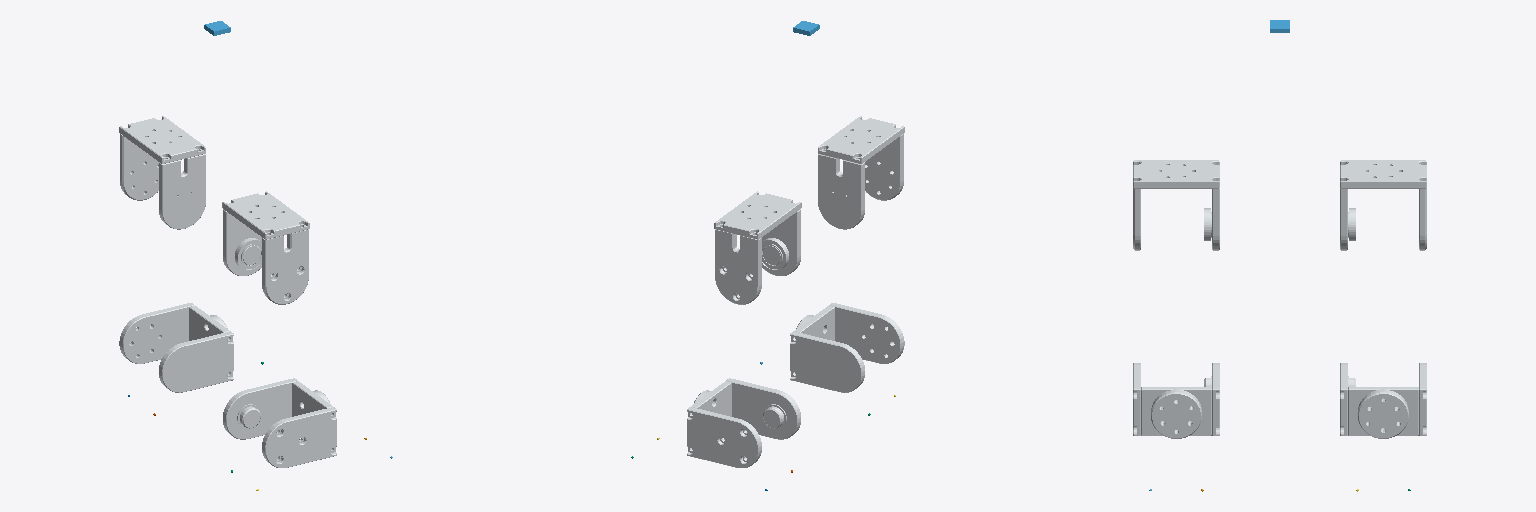
--- What the picture shows (computed from the rendered views, not written in the file) ---
3 views of the same robot in one strip: view 1: azimuth 30°, elevation 25°; view 2: azimuth 150°, elevation 25°; view 3: azimuth 270°, elevation 25° (orthographic).
Robot: pai_cl_12 — 22 links, 21 joints (12 revolute, 9 fixed); root link base_link; default pose: every joint at zero.
Links seen in each view (by area): view 1: leg_l5_link, leg_r5_link, leg_l3_link, leg_r3_link; view 2: leg_r5_link, leg_l5_link, leg_r3_link, leg_l3_link; view 3: leg_r5_link, leg_l5_link, leg_r3_link, leg_l3_link.
Link boxes in pixels (bbox=[...]): leg_l5_link: bbox=[119, 303, 233, 392]; leg_r5_link: bbox=[223, 378, 336, 467]; leg_l3_link: bbox=[119, 116, 205, 229]; leg_r3_link: bbox=[222, 191, 309, 304]; leg_r5_link: bbox=[790, 303, 904, 392]; leg_l5_link: bbox=[687, 378, 800, 467]; leg_r3_link: bbox=[818, 116, 904, 229]; leg_l3_link: bbox=[714, 191, 801, 304]; leg_r5_link: bbox=[1133, 363, 1219, 438]; leg_l5_link: bbox=[1340, 363, 1426, 438]; leg_r3_link: bbox=[1133, 160, 1219, 250]; leg_l3_link: bbox=[1340, 160, 1426, 250].
Bounding box of the posed robot: 0.122 × 0.2274 × 0.3535 m (x, y, z).
4 mesh visuals loaded from 13 distinct referenced files (4 binary STL); not drawn: 9 (reference not matched to a file when rendering).

robot.urdf — pai_cl_12:
<?xml version="1.0" encoding="utf-8"?>
<robot name="pai_cl_12">

	<gazebo>
		<plugin name="gazebo_ros_control" filename="libhunter_bipedal_hw_sim.so">
		<robotNamespace>/</robotNamespace>
		<robotParam>legged_robot_description</robotParam>
		<robotSimType>legged_gazebo/LeggedHWSim</robotSimType>
		</plugin>
	</gazebo>

  <gazebo>
    <plugin filename="libgazebo_ros_p3d.so" name="p3d_base_controller">
      <alwaysOn>true</alwaysOn>
      <updateRate>500.0</updateRate>
      <bodyName>base_link</bodyName>
      <topicName>ground_truth/state</topicName>
      <gaussianNoise>0</gaussianNoise>
      <frameName>world</frameName>
      <xyzOffsets>0 0 0</xyzOffsets>
      <rpyOffsets>0 0 0</rpyOffsets>
    </plugin>
  </gazebo>

	<link name="base_link">
		<inertial>
			<origin xyz="0.00080912 -8.753E-05 0.03920549" rpy="0 0 0" />
			<mass value="1.82" />
			<inertia ixx="0.00829787" ixy="-1.181E-05" ixz="-0.00019642" iyy="0.00916809" iyz="1.354E-05" izz="0.00411404" />
		</inertial>
		<visual>
			<origin xyz="0 0 0.0" rpy="0 0 0" />
			<geometry>
				<!-- <box size="0.1 0.1 0.1" /> -->
				<mesh filename="package://legged_hunter_description/meshes/base_link.stl" />
			</geometry>
			<material name="">
				<color rgba="0.79216 0.81961 0.93333 1" />
			</material>
		</visual>
		<collision>
			<origin xyz="0 0 0.08" rpy="0 0 0" />
			<geometry>
				<box size="0.1 0.1 0.1" />
			</geometry>
		</collision>
	</link>

  	<joint name="imu_joint" type="fixed">
      <origin rpy="0. 0. 0." xyz="0. 0. 0"/>
      <parent link="base_link"/>
      <child link="imu_link"/>
    </joint>
    <!-- Imu link -->
    <link name="imu_link">
      <inertial>
        <mass value="0.01"/>
        <origin rpy="0 0 0" xyz="0 0 0"/>
        <inertia ixx="0.000001" ixy="0" ixz="0" iyy="0.000001" iyz="0" izz="0.000001"/>
      </inertial>
      <visual>
        <origin rpy="0 0 0" xyz="0 0 0"/>
        <geometry>
          <box size="0.015 0.015 0.004"/>
        </geometry>
      </visual>
      <material name="orange">
        <color rgba="255 108 10 255"/>
      </material>
    </link>
    <gazebo reference="imu_joint">
      <disableFixedJointLumping>true</disableFixedJointLumping>
    </gazebo>	

  <!-- ************************************************************ -->
  <!-- ************************ Right Leg ************************** -->
  <!-- ************************************************************ -->	

	<link name="leg_r1_link">
		<inertial>
			<origin xyz="0.0010765 -0.030923 -0.00028479" rpy="0 0 0" />
			<mass value="0.37475" />
			<inertia ixx="0.00018843" ixy="-7E-07" ixz="-7E-07" iyy="0.00019327" iyz="1.72E-06" izz="0.00020355" />
		</inertial>
		<visual>
			<origin xyz="0 0 0" rpy="0 0 0" />
			<geometry>
				<!-- <box size="0.001 0.001 0.001" /> -->
				<mesh filename="package://legged_hunter_description/meshes/r_hip_pitch_link.stl" />
			</geometry>
			<material name="">
				<color rgba="0.79216 0.81961 0.93333 1" />
			</material>
		</visual>
		<collision>
			<origin xyz="0 0 0" rpy="0 0 0" />
			<geometry>
				<box size="0.001 0.001 0.001" />
				<!-- <mesh filename="package://legged_hunter_description/meshes/r_hip_pitch_link.stl" /> -->
			</geometry>
		</collision>
	</link>
	<joint name="leg_r1_joint" type="revolute">
		<origin xyz="-0.0028186 -0.0482 -0.031" rpy="0 0 0" />
		<parent link="base_link" />
		<child link="leg_r1_link" />
		<axis xyz="0 1 0" />
		<limit lower="-1.5" upper="1.5" effort="21" velocity="21" />
	</joint>

	<link name="leg_r2_link">
		<inertial>
			<origin xyz="-0.025798 0.00024695 -0.059965" rpy="0 0 0" />
			<mass value="0.41506" />
			<inertia ixx="0.00037621" ixy="1.65E-06" ixz="3.105E-05" iyy="0.0004423" iyz="4E-07" izz="0.00024588" />
		</inertial>
		<visual>
			<origin xyz="0 0 0" rpy="0 0 0" />
			<geometry>
				<!-- <box size="0.001 0.001 0.001" /> -->
				<mesh filename="package://legged_hunter_description/meshes/r_hip_roll_link.stl" />
			</geometry>
			<material name="">
				<color rgba="0.79216 0.81961 0.93333 1" />
			</material>
		</visual>
		<collision>
			<origin xyz="0 0 0" rpy="0 0 0" />
			<geometry>
				<!-- <mesh filename="package://legged_hunter_description/meshes/r_hip_roll_link.stl" /> -->
				<box size="0.001 0.001 0.001" />
			</geometry>
		</collision>
	</link>
	<joint name="leg_r2_joint" type="revolute">
		<origin xyz="0.0245 -0.032 0" rpy="0 0 0" />
		<parent link="leg_r1_link" />
		<child link="leg_r2_link" />
		<axis xyz="1 0 0" />
		<limit lower="-1.5" upper="1.5" effort="21" velocity="21" />
	</joint>

	<link name="leg_r3_link">
		<inertial>
			<origin xyz="0 0.00287888 -0.02541557" rpy="0 0 0" />
			<mass value="0.12098061" />
			<inertia ixx="0.00013404" ixy="0" ixz="0" iyy="6.442E-05" iyz="7.23E-06" izz="9.875E-05" />
		</inertial>
		<visual>
			<origin xyz="0 0 0" rpy="0 0 0" />
			<geometry>
				<!-- <box size="0.001 0.001 0.001" /> -->
				<mesh filename="package://legged_hunter_description/meshes/r_thigh_link.stl" />
			</geometry>
			<material name="">
				<color rgba="0.89804 0.91765 0.92941 1" />
			</material>
		</visual>
		<collision>
			<origin xyz="0 0 0" rpy="0 0 0" />
			<geometry>
				<box size="0.001 0.001 0.001" />
				<!-- <mesh filename="package://legged_hunter_description/meshes/r_thigh_link.stl" /> -->
			</geometry>
		</collision>
	</link>
	<joint name="leg_r3_joint" type="revolute">
		<origin xyz="-0.0245 0 -0.0935" rpy="0 0 0" />
		<parent link="leg_r2_link" />
		<child link="leg_r3_link" />
		<axis xyz="0 0 1" />
		<limit lower="-1.5" upper="1.5" effort="21" velocity="21" />
	</joint>

	<link name="leg_r4_link">
		<inertial>
			<origin xyz="4.686E-05 0.02435698 -0.06983241" rpy="0 0 0" />
			<mass value="0.7601909" />
			<inertia ixx="0.00325687" ixy="-9E-08" ixz="8.91E-06" iyy="0.00327684" iyz="6.4E-07" izz="0.00031685" />
		</inertial>
		<visual>
			<origin xyz="0 0 0" rpy="0 0 0" />
			<geometry>
				<!-- <box size="0.001 0.001 0.001" /> -->
				<mesh filename="package://legged_hunter_description/meshes/r_calf_link.stl" />
			</geometry>
			<material name="">
				<color rgba="0.79216 0.81961 0.93333 1" />
			</material>
		</visual>
		<collision>
			<origin xyz="0 0 0" rpy="0 0 0" />
			<geometry>
				<box size="0.001 0.001 0.001" />
				<!-- <mesh filename="package://legged_hunter_description/meshes/r_calf_link.stl" /> -->
			</geometry>
		</collision>
	</link>
	<joint name="leg_r4_joint" type="revolute">
		<origin xyz="0 -0.0275 -0.046" rpy="0 0 0" />
		<parent link="leg_r3_link" />
		<child link="leg_r4_link" />
		<axis xyz="0 1 0" />
		<limit lower="-1.0" upper="3.0" effort="21" velocity="21" />
	</joint>

	<link name="leg_r5_link">
		<inertial>
			<origin xyz="0.02577677 0.0285458 0" rpy="0 0 0" />
			<mass value="0.1322312" />
			<inertia ixx="9.848E-05" ixy="3.56E-06" ixz="0" iyy="7.022E-05" iyz="0" izz="0.00013716" />
		</inertial>
		<visual>
			<origin xyz="0 0 0" rpy="0 0 0" />
			<geometry>
				<!-- <box size="0.001 0.001 0.001" /> -->
				<mesh filename="package://legged_hunter_description/meshes/r_ankle_pitch_link.stl" />
			</geometry>
			<material name="">
				<color rgba="0.89804 0.91765 0.92941 1" />
			</material>
		</visual>
		<collision>
			<origin xyz="0 0 0" rpy="0 0 0" />
			<geometry>
				<box size="0.001 0.001 0.001" />
				<!-- <mesh filename="package://legged_hunter_description/meshes/r_ankle_pitch_link.stl" /> -->
			</geometry>
		</collision>
	</link>
	<joint name="leg_r5_joint" type="revolute">
		<origin xyz="0 0 -0.14" rpy="0 0 0" />
		<parent link="leg_r4_link" />
		<child link="leg_r5_link" />
		<axis xyz="0 1 0" />
		<limit lower="-1.0" upper="1.0" effort="21" velocity="21" />
	</joint>

	<link name="r_ankle_roll_link">
		<inertial>
			<origin xyz="0.012583 0.00017854 -0.016891" rpy="0 0 0" />
			<mass value="0.58347" />
			<inertia ixx="0.00052164" ixy="-1.83E-06" ixz="-0.00017071" iyy="0.00089826" iyz="-1E-08" izz="0.00070959" />
		</inertial>
		<visual>
			<origin xyz="0 0 0" rpy="0 0 0" />
			<geometry>
				<mesh filename="package://legged_hunter_description/meshes/r_ankle_roll_link.stl" />
			</geometry>
			<material name="">
				<color rgba="0.79216 0.81961 0.93333 1" />
			</material>
		</visual>
		<collision>
			<origin xyz="0 0 0" rpy="0 0 0" />
			<geometry>
        <box size="0.001 0.001 0.001" />
				<!-- <mesh filename="package://legged_hunter_description/meshes/r_ankle_roll_link.stl" /> -->
			</geometry>
		</collision>
	</link>
	<joint name="leg_r6_joint" type="revolute">
		<origin xyz="0.051 0.0275 0" rpy="0 0 0" />
		<parent link="leg_r5_link" />
		<child link="r_ankle_roll_link" />
		<axis xyz="1 0 0" />
		<limit lower="-1.0" upper="1.0" effort="21" velocity="21" />
	</joint>

  <joint name="leg_r5_fixed_1" type="fixed">
    <origin xyz="0.05 0.02 -0.0400" rpy="0 0 0" />
    <parent link="r_ankle_roll_link" />
    <child link="leg_r_f1_link" />
  </joint>
  <link name="leg_r_f1_link">
    <inertial>
      <mass value="0.01" />
      <inertia ixx="0.000001" ixy="0" ixz="0" iyy="0.000001" iyz="0" izz="0.000001" />
    </inertial>
    <visual>
      <origin rpy="0 0 0" xyz="0 0 0"/>
      <geometry>
        <sphere radius="0.001"/>
      </geometry>
    </visual>
    <collision>
      <origin rpy="0 0 0" xyz="0 0 0"/>
      <geometry>
        <sphere radius="0.001"/>
      </geometry>
    </collision>
  </link>

  <joint name="leg_r5_fixed_2" type="fixed">
    <origin xyz="0.05 -0.02 -0.0400" rpy="0 0 0" />
    <parent link="r_ankle_roll_link" />
    <child link="leg_r_f2_link" />
  </joint>
  <link name="leg_r_f2_link">
    <inertial>
      <mass value="0.01" />
      <inertia ixx="0.000001" ixy="0" ixz="0" iyy="0.000001" iyz="0" izz="0.000001" />
    </inertial>
    <visual>
      <origin rpy="0 0 0" xyz="0 0 0"/>
      <geometry>
        <sphere radius="0.001"/>
      </geometry>
    </visual>
    <collision>
      <origin rpy="0 0 0" xyz="0 0 0"/>
      <geometry>
        <sphere radius="0.001"/>
      </geometry>
    </collision>
  </link>

  <joint name="leg_r5_fixed_3" type="fixed">
    <origin xyz="-0.07 0.02 -0.0400" rpy="0 0 0" />
    <parent link="r_ankle_roll_link" />
    <child link="leg_r_f3_link" />
  </joint>
  <link name="leg_r_f3_link">
    <inertial>
      <mass value="0.01" />
      <inertia ixx="0.000001" ixy="0" ixz="0" iyy="0.000001" iyz="0" izz="0.000001" />
    </inertial>
    <visual>
      <origin rpy="0 0 0" xyz="0 0 0"/>
      <geometry>
        <sphere radius="0.001"/>
      </geometry>
    </visual>
    <collision>
      <origin rpy="0 0 0" xyz="0 0 0"/>
      <geometry>
        <sphere radius="0.001"/>
      </geometry>
    </collision>
  </link>

  <joint name="leg_r5_fixed_4" type="fixed">
    <origin xyz="-0.070 -0.02 -0.0400" rpy="0 0 0" />
    <parent link="r_ankle_roll_link" />
    <child link="leg_r_f4_link" />
  </joint>
  <link name="leg_r_f4_link">
    <inertial>
      <mass value="0.01" />
      <inertia ixx="0.000001" ixy="0" ixz="0" iyy="0.000001" iyz="0" izz="0.000001" />
    </inertial>
    <visual>
      <origin rpy="0 0 0" xyz="0 0 0"/>
      <geometry>
        <sphere radius="0.001"/>
      </geometry>
    </visual>
    <collision>
      <origin rpy="0 0 0" xyz="0 0 0"/>
      <geometry>
        <sphere radius="0.001"/>
      </geometry>
    </collision>
  </link>

  <gazebo reference="leg_r1_link">
    <mu1>0.6</mu1>
    <mu2>0.6</mu2>
    <self_collide>1</self_collide>
  </gazebo>
  <gazebo reference="leg_r2_link">
    <mu1>0.6</mu1>
    <mu2>0.6</mu2>
    <self_collide>1</self_collide>
  </gazebo>
  <gazebo reference="leg_r3_link">
    <mu1>0.6</mu1>
    <mu2>0.6</mu2>
    <self_collide>1</self_collide>
  </gazebo>
  <gazebo reference="leg_r4_link">
    <mu1>0.6</mu1>
    <mu2>0.6</mu2>
    <self_collide>1</self_collide>
  </gazebo>
  <gazebo reference="leg_r5_link">
    <mu1>0.6</mu1>
    <mu2>0.6</mu2>
    <self_collide>1</self_collide>
  </gazebo>
  <gazebo reference="r_ankle_roll_link">
    <mu1>0.6</mu1>
    <mu2>0.6</mu2>
    <self_collide>1</self_collide>
  </gazebo>
  <gazebo reference="leg_r_f1_link">
    <mu1>1.5</mu1>
    <mu2>1.5</mu2>
    <self_collide>1</self_collide>
    <kp value="1000000.0"/>
    <kd value="100.0"/>
    <maxVel>1.0</maxVel>
    <minDepth>0.00</minDepth>
  </gazebo>
  <gazebo reference="leg_r_f2_link">
    <mu1>1.5</mu1>
    <mu2>1.5</mu2>
    <self_collide>1</self_collide>
    <kp value="1000000.0"/>
    <kd value="100.0"/>
    <maxVel>1.0</maxVel>
    <minDepth>0.00</minDepth>
  </gazebo>
  <gazebo reference="leg_r_f3_link">
    <mu1>1.5</mu1>
    <mu2>1.5</mu2>
    <self_collide>1</self_collide>
    <kp value="1000000.0"/>
    <kd value="100.0"/>
    <maxVel>1.0</maxVel>
    <minDepth>0.00</minDepth>
  </gazebo>
  <gazebo reference="leg_r_f4_link">
    <mu1>1.5</mu1>
    <mu2>1.5</mu2>
    <self_collide>1</self_collide>
    <kp value="1000000.0"/>
    <kd value="100.0"/>
    <maxVel>1.0</maxVel>
    <minDepth>0.00</minDepth>
  </gazebo>

  <transmission name="leg_r1_tran">
    <type>transmission_interface/SimpleTransmission</type>
    <joint name="leg_r1_joint">
      <hardwareInterface>hardware_interface/EffortJointInterface</hardwareInterface>
    </joint>
    <actuator name="leg_r1_motor">
      <hardwareInterface>hardware_interface/EffortJointInterface</hardwareInterface>
      <mechanicalReduction>1</mechanicalReduction>
      	  <maxVelocity>1.484</maxVelocity><!-- 85rpm -->
	<maxEffort>36.0</maxEffort><!-- 36Nm -->
    </actuator>
  </transmission>

  <transmission name="leg_r2_tran">
    <type>transmission_interface/SimpleTransmission</type>
    <joint name="leg_r2_joint">
      <hardwareInterface>hardware_interface/EffortJointInterface</hardwareInterface>
    </joint>
    <actuator name="leg_r2_motor">
      <hardwareInterface>hardware_interface/EffortJointInterface</hardwareInterface>
      <mechanicalReduction>1</mechanicalReduction>
      	  <maxVelocity>2.6545</maxVelocity><!-- 160rpm -->
	  <maxEffort>94.0</maxEffort><!-- 94Nm -->
    </actuator>
  </transmission>

  <transmission name="leg_r3_tran">
    <type>transmission_interface/SimpleTransmission</type>
    <joint name="leg_r3_joint">
      <hardwareInterface>hardware_interface/EffortJointInterface</hardwareInterface>
    </joint>
    <actuator name="leg_r3_motor">
      <hardwareInterface>hardware_interface/EffortJointInterface</hardwareInterface>
      <mechanicalReduction>1</mechanicalReduction>
      	  <maxVelocity>2.6545</maxVelocity><!-- 160rpm -->
	  <maxEffort>94.0</maxEffort><!-- 94Nm -->
    </actuator>
  </transmission>

  <transmission name="leg_r4_tran">
    <type>transmission_interface/SimpleTransmission</type>
    <joint name="leg_r4_joint">
      <hardwareInterface>hardware_interface/EffortJointInterface</hardwareInterface>
    </joint>
    <actuator name="leg_r4_motor">
      <hardwareInterface>hardware_interface/EffortJointInterface</hardwareInterface>
      <mechanicalReduction>1</mechanicalReduction>
      	  <maxVelocity>1.484</maxVelocity><!-- 85rpm -->
	<maxEffort>36.0</maxEffort><!-- 36Nm -->
    </actuator>
  </transmission>

  <transmission name="leg_r5_tran">
    <type>transmission_interface/SimpleTransmission</type>
    <joint name="leg_r5_joint">
      <hardwareInterface>hardware_interface/EffortJointInterface</hardwareInterface>
    </joint>
    <actuator name="leg_r5_motor">
      <hardwareInterface>hardware_interface/EffortJointInterface</hardwareInterface>
      <mechanicalReduction>1</mechanicalReduction>
    </actuator>
  </transmission>

  <transmission name="leg_r6_tran">
    <type>transmission_interface/SimpleTransmission</type>
    <joint name="leg_r6_joint">
      <hardwareInterface>hardware_interface/EffortJointInterface</hardwareInterface>
    </joint>
    <actuator name="leg_r6_motor">
      <hardwareInterface>hardware_interface/EffortJointInterface</hardwareInterface>
      <mechanicalReduction>1</mechanicalReduction>
    </actuator>
  </transmission>


  <!-- ************************************************************ -->
  <!-- ************************ Left Leg ************************** -->
  <!-- ************************************************************ -->


	<link name="leg_l1_link">
		<inertial>
			<origin xyz="0.0010765 0.030923 -0.00028479" rpy="0 0 0" />
			<mass value="0.37475" />
			<inertia ixx="0.00018843" ixy="-7E-07" ixz="-7E-07" iyy="0.00019327" iyz="1.72E-06" izz="0.00020355" />
		</inertial>
		<visual>
			<origin xyz="0 0 0" rpy="0 0 0" />
			<geometry>
				<mesh filename="package://legged_hunter_description/meshes/l_hip_pitch_link.stl" />
			</geometry>
			<material name="">
				<color rgba="0.89804 0.91765 0.92941 1" />
			</material>
		</visual>
		<collision>
			<origin xyz="0 0 0" rpy="0 0 0" />
			<geometry>
				<box size="0.001 0.001 0.001" />
				<!-- <mesh filename="package://legged_hunter_description/meshes/l_hip_pitch_link.stl" /> -->
			</geometry>
		</collision>
	</link>
	<joint name="leg_l1_joint" type="revolute">
		<origin xyz="-0.0028186 0.0482 -0.031" rpy="0 0 0" />
		<parent link="base_link" />
		<child link="leg_l1_link" />
		<axis xyz="0 1 0" />
		<limit lower="-1.5" upper="1.5" effort="21" velocity="21" />
	</joint>

	<link name="leg_l2_link">
		<inertial>
			<origin xyz="-0.025798 0.00024695 -0.059965" rpy="0 0 0" />
			<mass value="0.41506" />
			<inertia ixx="0.00037621" ixy="1.65E-06" ixz="3.105E-05" iyy="0.0004423" iyz="4E-07" izz="0.00024588" />
		</inertial>
		<visual>
			<origin xyz="0 0 0" rpy="0 0 0" />
			<geometry>
				<mesh filename="package://legged_hunter_description/meshes/l_hip_roll_link.stl" />
			</geometry>
			<material name="">
				<color rgba="0.79216 0.81961 0.93333 1" />
			</material>
		</visual>
		<collision>
			<origin xyz="0 0 0" rpy="0 0 0" />
			<geometry>
				<box size="0.001 0.001 0.001" />
				<!-- <mesh filename="package://legged_hunter_description/meshes/l_hip_roll_link.stl" /> -->
			</geometry>
		</collision>
	</link>
	<joint name="leg_l2_joint" type="revolute">
		<origin xyz="0.0245 0.032 0" rpy="0 0 0" />
		<parent link="leg_l1_link" />
		<child link="leg_l2_link" />
		<axis xyz="1 0 0" />
		<limit lower="-1.5" upper="1.5" effort="21" velocity="21" />
	</joint>

	<link name="leg_l3_link">
		<inertial>
			<origin xyz="0 -0.00286926 -0.02541557" rpy="0 0 0" />
			<mass value="0.12098061" />
			<inertia ixx="0.00013405" ixy="0" ixz="0" iyy="6.442E-05" iyz="-7.26E-06" izz="9.875E-05" />
		</inertial>
		<visual>
			<origin xyz="0 0 0" rpy="0 0 0" />
			<geometry>
				<mesh filename="package://legged_hunter_description/meshes/l_thigh_link.stl" />
			</geometry>
			<material name="">
				<color rgba="0.89804 0.91765 0.92941 1" />
			</material>
		</visual>
		<collision>
			<origin xyz="0 0 0" rpy="0 0 0" />
			<geometry>
				<box size="0.001 0.001 0.001" />
				<!-- <mesh filename="package://legged_hunter_description/meshes/l_thigh_link.stl" /> -->
			</geometry>
		</collision>
	</link>
	<joint name="leg_l3_joint" type="revolute">
		<origin xyz="-0.0245 0 -0.0935" rpy="0 0 0" />
		<parent link="leg_l2_link" />
		<child link="leg_l3_link" />
		<axis xyz="0 0 1" />
		<limit lower="-1.5" upper="1.5" effort="21" velocity="21" />
	</joint>

	<link name="leg_l4_link">
		<inertial>
			<origin xyz="4.686E-05 -0.02435698 -0.06983241" rpy="0 0 0" />
			<mass value="0.7601909" />
			<inertia ixx="0.00325687" ixy="-9E-08" ixz="8.91E-06" iyy="0.00327684" iyz="6.4E-07" izz="0.00031685" />
		</inertial>
		<visual>
			<origin xyz="0 0 0" rpy="0 0 0" />
			<geometry>
				<mesh filename="package://legged_hunter_description/meshes/l_calf_link.stl" />
			</geometry>
			<material name="">
				<color rgba="0.75294 0.75294 0.75294 1" />
			</material>
		</visual>
		<collision>
			<origin xyz="0 0 0" rpy="0 0 0" />
			<geometry>
				<box size="0.001 0.001 0.001" />
				<!-- <mesh filename="package://legged_hunter_description/meshes/l_calf_link.stl" /> -->
			</geometry>
		</collision>
	</link>
	<joint name="leg_l4_joint" type="revolute">
		<origin xyz="0 0.0275 -0.046" rpy="0 0 0" />
		<parent link="leg_l3_link" />
		<child link="leg_l4_link" />
		<axis xyz="0 1 0" />
		<limit lower="-1.0" upper="3.0" effort="21" velocity="21" />
	</joint>

	<link name="leg_l5_link">
		<inertial>
			<origin xyz="0.02577677 -0.02854579 0" rpy="0 0 0" />
			<mass value="0.1322312" />
			<inertia ixx="9.848E-05" ixy="-3.56E-06" ixz="0" iyy="7.022E-05" iyz="0" izz="0.00013716" />
		</inertial>
		<visual>
			<origin xyz="0 0 0" rpy="0 0 0" />
			<geometry>
				<mesh filename="package://legged_hunter_description/meshes/l_ankle_pitch_link.stl" />
			</geometry>
			<material name="">
				<color rgba="0.89804 0.91765 0.92941 1" />
			</material>
		</visual>
		<collision>
			<origin xyz="0 0 0" rpy="0 0 0" />
			<geometry>
				<box size="0.001 0.001 0.001" />
				<!-- <mesh filename="package://legged_hunter_description/meshes/l_ankle_pitch_link.stl" /> -->
			</geometry>
		</collision>
	</link>
	<joint name="leg_l5_joint" type="revolute">
		<origin xyz="0 0 -0.14" rpy="0 0 0" />
		<parent link="leg_l4_link" />
		<child link="leg_l5_link" />
		<axis xyz="0 1 0" />
		<limit lower="-1.0" upper="1.0" effort="21" velocity="21" />
	</joint>

	<link name="l_ankle_roll_link">
		<inertial>
			<origin xyz="0.012583 0.00017854 -0.016891" rpy="0 0 0" />
			<mass value="0.58347" />
			<inertia ixx="0.00052164" ixy="-1.83E-06" ixz="-0.00017071" iyy="0.00089826" iyz="-1E-08" izz="0.00070959" />
		</inertial>
		<visual>
			<origin xyz="0 0 0" rpy="0 0 0" />
			<geometry>
				<mesh filename="package://legged_hunter_description/meshes/l_ankle_roll_link.stl" />
			</geometry>
			<material name="">
				<color rgba="0.89804 0.91765 0.92941 1" />
			</material>
		</visual>
		<collision>
			<origin xyz="0 0 0" rpy="0 0 0" />
			<geometry>
        <box size="0.001 0.001 0.001" />
				<!-- <mesh filename="package://legged_hunter_description/meshes/l_ankle_roll_link.stl" /> -->
			</geometry>
		</collision>
	</link>
	<joint name="leg_l6_joint" type="revolute">
		<origin xyz="0.051 -0.0275 0" rpy="0 0 0" />
		<parent link="leg_l5_link" />
		<child link="l_ankle_roll_link" />
		<axis xyz="1 0 0" />
		<limit lower="-1.0" upper="1.0" effort="21" velocity="21" />
	</joint>

 <joint name="leg_l5_fixed_1" type="fixed">
    <origin xyz="0.05 0.02 -0.0400" rpy="0 0 0" />
    <parent link="l_ankle_roll_link" />
    <child link="leg_l_f1_link" />
  </joint>
  <link name="leg_l_f1_link">
    <inertial>
      <mass value="0.01" />
      <inertia ixx="0.000001" ixy="0" ixz="0" iyy="0.000001" iyz="0" izz="0.000001" />
    </inertial>
    <visual>
      <origin rpy="0 0 0" xyz="0 0 0"/>
      <geometry>
        <sphere radius="0.001"/>
      </geometry>
    </visual>
    <collision>
      <origin rpy="0 0 0" xyz="0 0 0"/>
      <geometry>
        <sphere radius="0.001"/>
      </geometry>
    </collision>
  </link>

  <joint name="leg_l5_fixed_2" type="fixed">
    <origin xyz="0.05 -0.02 -0.0400" rpy="0 0 0" />
    <parent link="l_ankle_roll_link" />
    <child link="leg_l_f2_link" />
  </joint>
  <link name="leg_l_f2_link">
    <inertial>
      <mass value="0.01" />
      <inertia ixx="0.000001" ixy="0" ixz="0" iyy="0.000001" iyz="0" izz="0.000001" />
    </inertial>
    <visual>
      <origin rpy="0 0 0" xyz="0 0 0"/>
      <geometry>
        <sphere radius="0.001"/>
      </geometry>
    </visual>
    <collision>
      <origin rpy="0 0 0" xyz="-0 0 0"/>
      <geometry>
        <sphere radius="0.001"/>
      </geometry>
    </collision>
  </link>	

 <joint name="leg_l5_fixed_3" type="fixed">
    <origin xyz="-0.07 0.02 -0.0400" rpy="0 0 0" />
    <parent link="l_ankle_roll_link" />
    <child link="leg_l_f3_link" />
  </joint>
  <link name="leg_l_f3_link">
    <inertial>
      <mass value="0.01" />
      <inertia ixx="0.000001" ixy="0" ixz="0" iyy="0.000001" iyz="0" izz="0.000001" />
    </inertial>
    <visual>
      <origin rpy="0 0 0" xyz="0 0 0"/>
      <geometry>
        <sphere radius="0.001"/>
      </geometry>
    </visual>
    <collision>
      <origin rpy="0 0 0" xyz="0 0 0"/>
      <geometry>
        <sphere radius="0.001"/>
      </geometry>
    </collision>
  </link>

  <joint name="leg_l5_fixed_4" type="fixed">
    <origin xyz="-0.07 -0.02 -0.0400" rpy="0 0 0" />
    <parent link="l_ankle_roll_link" />
    <child link="leg_l_f4_link" />
  </joint>
  <link name="leg_l_f4_link">
    <inertial>
      <mass value="0.01" />
      <inertia ixx="0.000001" ixy="0" ixz="0" iyy="0.000001" iyz="0" izz="0.000001" />
    </inertial>
    <visual>
      <origin rpy="0 0 0" xyz="0 0 0"/>
      <geometry>
        <sphere radius="0.001"/>
      </geometry>
    </visual>
    <collision>
      <origin rpy="0 0 0" xyz="-0 0 0"/>
      <geometry>
        <sphere radius="0.001"/>
      </geometry>
    </collision>
  </link>		

  <gazebo reference="leg_l1_link">
    <mu1>0.6</mu1>
    <mu2>0.6</mu2>
    <self_collide>1</self_collide>
  </gazebo>
  <gazebo reference="leg_l2_link">
    <mu1>0.6</mu1>
    <mu2>0.6</mu2>
    <self_collide>1</self_collide>
  </gazebo>
  <gazebo reference="leg_l3_link">
    <mu1>0.6</mu1>
    <mu2>0.6</mu2>
    <self_collide>1</self_collide>
  </gazebo>
  <gazebo reference="leg_l4_link">
    <mu1>0.6</mu1>
    <mu2>0.6</mu2>
    <self_collide>1</self_collide>
  </gazebo>
  <gazebo reference="leg_l5_link">
    <mu1>0.6</mu1>
    <mu2>0.6</mu2>
    <self_collide>1</self_collide>
  </gazebo>
  <gazebo reference="l_ankle_roll_link">
    <mu1>0.6</mu1>
    <mu2>0.6</mu2>
    <self_collide>1</self_collide>
  </gazebo>
  <gazebo reference="leg_l_f1_link">
    <mu1>1.5</mu1>
    <mu2>1.5</mu2>
    <self_collide>1</self_collide>
    <kp value="1000000.0"/>
    <kd value="100.0"/>
    <maxVel>1.0</maxVel>
    <minDepth>0.00</minDepth>
  </gazebo>
  <gazebo reference="leg_l_f2_link">
    <mu1>1.5</mu1>
    <mu2>1.5</mu2>
    <self_collide>1</self_collide>
    <kp value="1000000.0"/>
    <kd value="100.0"/>
    <maxVel>1.0</maxVel>
    <minDepth>0.00</minDepth>
  </gazebo>
  <gazebo reference="leg_l_f3_link">
    <mu1>1.5</mu1>
    <mu2>1.5</mu2>
    <self_collide>1</self_collide>
    <kp value="1000000.0"/>
    <kd value="100.0"/>
    <maxVel>1.0</maxVel>
    <minDepth>0.00</minDepth>
  </gazebo>
  <gazebo reference="leg_l_f4_link">
    <mu1>1.5</mu1>
    <mu2>1.5</mu2>
    <self_collide>1</self_collide>
    <kp value="1000000.0"/>
    <kd value="100.0"/>
    <maxVel>1.0</maxVel>
    <minDepth>0.00</minDepth>
  </gazebo>

  <transmission name="leg_l1_tran">
    <type>transmission_interface/SimpleTransmission</type>
    <joint name="leg_l1_joint">
      <hardwareInterface>hardware_interface/EffortJointInterface</hardwareInterface>
    </joint>
    <actuator name="leg_l1_motor">
      <hardwareInterface>hardware_interface/EffortJointInterface</hardwareInterface>
      <mechanicalReduction>1</mechanicalReduction>
    <maxVelocity>1.484</maxVelocity><!-- 85rpm -->
	  <maxEffort>36.0</maxEffort><!-- 36Nm -->
    </actuator>
  </transmission>

  <transmission name="leg_l2_tran">
    <type>transmission_interface/SimpleTransmission</type>
    <joint name="leg_l2_joint">
      <hardwareInterface>hardware_interface/EffortJointInterface</hardwareInterface>
    </joint>
    <actuator name="leg_l2_motor">
      <hardwareInterface>hardware_interface/EffortJointInterface</hardwareInterface>
      <mechanicalReduction>1</mechanicalReduction>
    <maxVelocity>2.6545</maxVelocity><!-- 160rpm -->
	  <maxEffort>94.0</maxEffort><!-- 94Nm -->
    </actuator>
  </transmission>

  <transmission name="leg_l3_tran">
    <type>transmission_interface/SimpleTransmission</type>
    <joint name="leg_l3_joint">
      <hardwareInterface>hardware_interface/EffortJointInterface</hardwareInterface>
    </joint>
    <actuator name="leg_l3_motor">
      <hardwareInterface>hardware_interface/EffortJointInterface</hardwareInterface>
      <mechanicalReduction>1</mechanicalReduction>
    <maxVelocity>2.6545</maxVelocity><!-- 160rpm -->
	  <maxEffort>94.0</maxEffort><!-- 94Nm -->
    </actuator>
  </transmission>

  <transmission name="leg_l4_tran">
    <type>transmission_interface/SimpleTransmission</type>
    <joint name="leg_l4_joint">
      <hardwareInterface>hardware_interface/EffortJointInterface</hardwareInterface>
    </joint>
    <actuator name="leg_l4_motor">
      <hardwareInterface>hardware_interface/EffortJointInterface</hardwareInterface>
      <mechanicalReduction>1</mechanicalReduction>
    <maxVelocity>1.484</maxVelocity><!-- 85rpm -->
	<maxEffort>36.0</maxEffort><!-- 36Nm -->
    </actuator>
  </transmission>

  <transmission name="leg_l5_tran">
    <type>transmission_interface/SimpleTransmission</type>
    <joint name="leg_l5_joint">
      <hardwareInterface>hardware_interface/EffortJointInterface</hardwareInterface>
    </joint>
    <actuator name="leg_l5_motor">
      <hardwareInterface>hardware_interface/EffortJointInterface</hardwareInterface>
      <mechanicalReduction>1</mechanicalReduction>
    </actuator>
  </transmission> 

  <transmission name="leg_l6_tran">
    <type>transmission_interface/SimpleTransmission</type>
    <joint name="leg_l6_joint">
      <hardwareInterface>hardware_interface/EffortJointInterface</hardwareInterface>
    </joint>
    <actuator name="leg_l6_motor">
      <hardwareInterface>hardware_interface/EffortJointInterface</hardwareInterface>
      <mechanicalReduction>1</mechanicalReduction>
    </actuator>
  </transmission> 

</robot>
